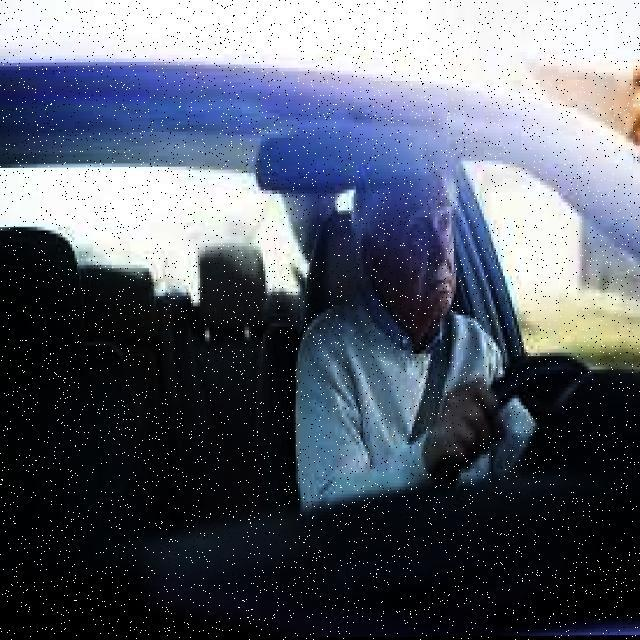seatbelt: (286, 290, 482, 498)
